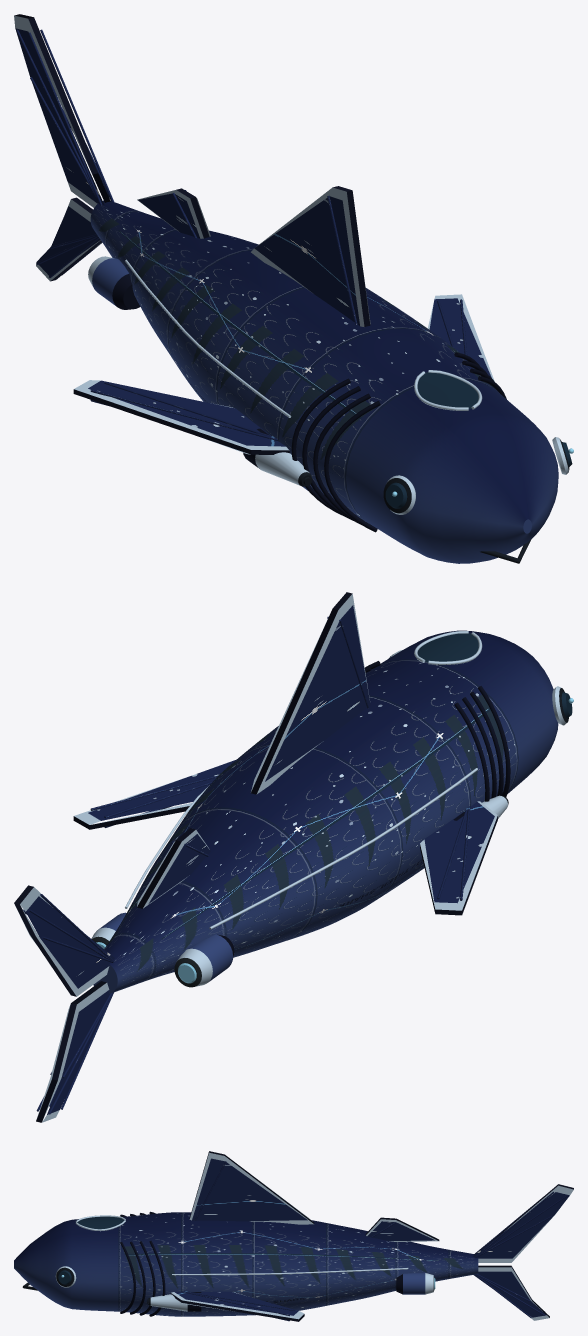
3 views of the same model, one above another, from view 1: azimuth 30°, elevation 25°; view 2: azimuth 150°, elevation 25°; view 3: azimuth 270°, elevation 25° (orthographic). The views are drawn at different scales.
Parts seen in each view (by area): view 1: tiger_shark_hull; view 2: tiger_shark_hull; view 3: tiger_shark_hull.
Part boxes in pixels (x1,y1,x2,y2): tiger_shark_hull: (14,14,573,563); tiger_shark_hull: (14,592,573,1122); tiger_shark_hull: (14,1151,573,1321).
Size of the model in its own units: 35.12 by 26.52 by 80.
Materials: 1 (1 with a texture image).
